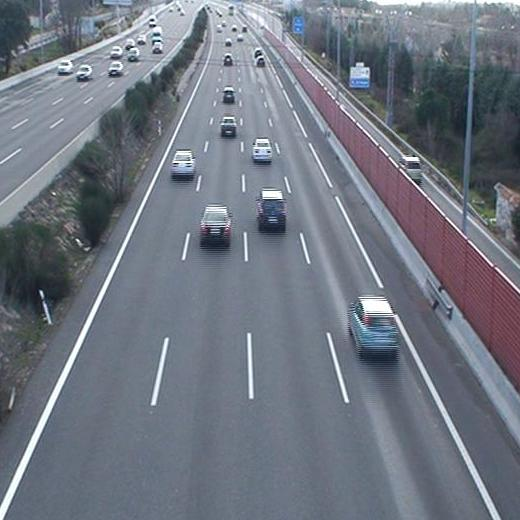car: (345, 295, 402, 361), (253, 188, 287, 232), (199, 206, 231, 246), (169, 150, 197, 178), (250, 137, 274, 162), (219, 116, 238, 137), (223, 87, 236, 103), (221, 53, 234, 67), (255, 53, 266, 67)
